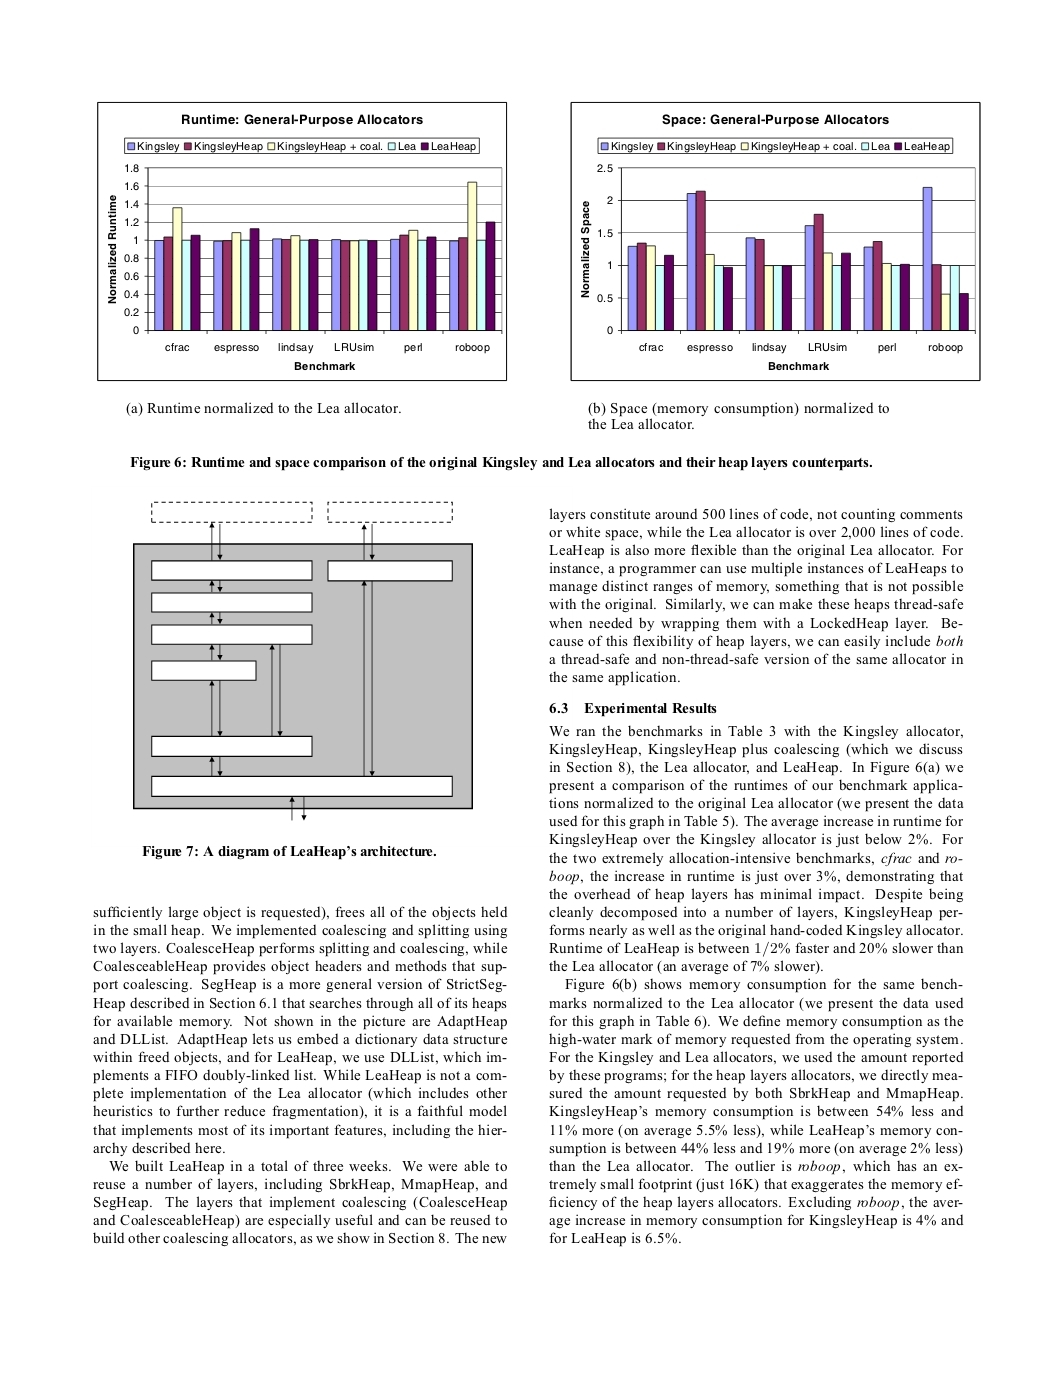figure: (97, 100, 507, 382), (570, 100, 980, 382), (133, 500, 473, 821)
